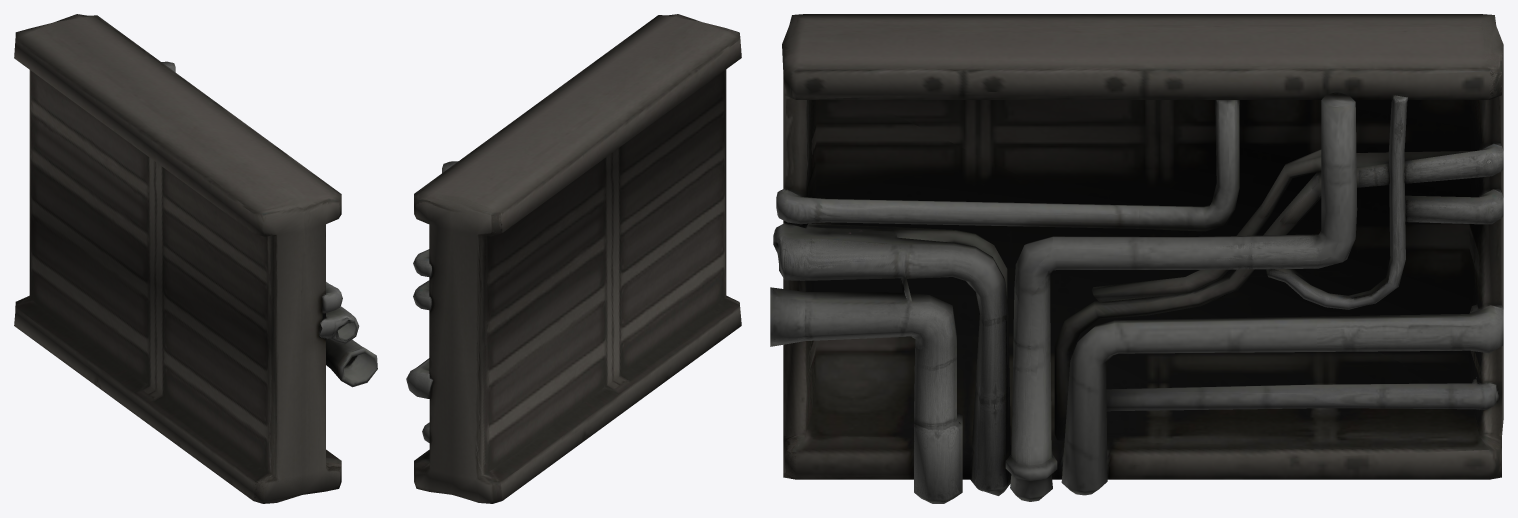
The model's file is tripo_convert_89053dd8-717e-4ccf-be22-214f80aa2a4a.fbx.
3 renders of one model, left to right at view 1: azimuth 30°, elevation 25°; view 2: azimuth 150°, elevation 25°; view 3: azimuth 270°, elevation 25°, orthographic. The views are drawn at different scales.
Visible parts, largest first — view 1: tripo_node_89053dd8; view 2: tripo_node_89053dd8; view 3: tripo_node_89053dd8.
Part boxes in pixels (x1,y1,x2,y2): tripo_node_89053dd8: (14,14,377,503); tripo_node_89053dd8: (406,14,741,503); tripo_node_89053dd8: (770,14,1503,503).
Bounding box in the file's own units: 0.2559 × 0.6426 × 0.998.
Materials: 1 (1 with a texture image).
